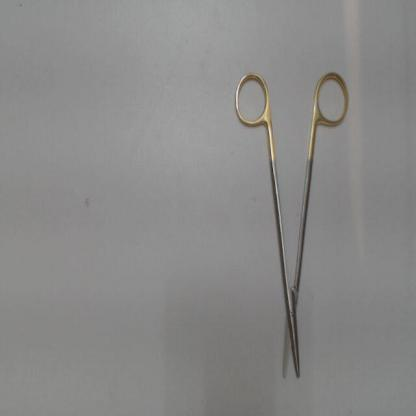7 Metzenbaum Scissors: (232, 66, 354, 384)
